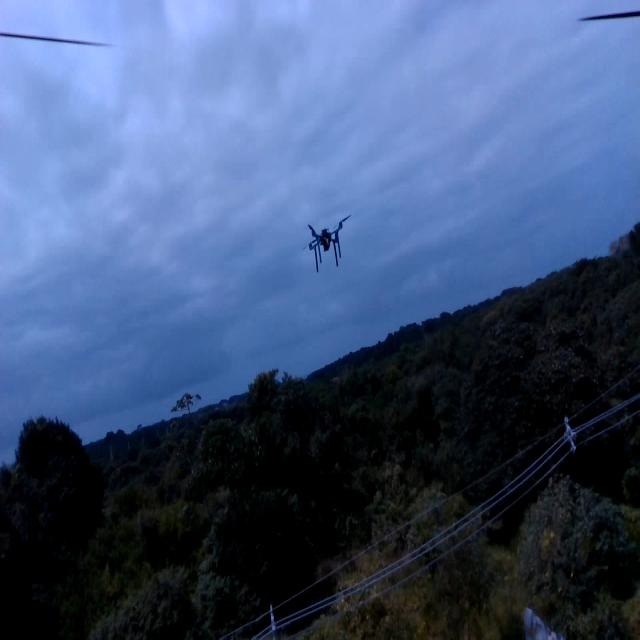-uav-: (294, 208, 358, 274)
